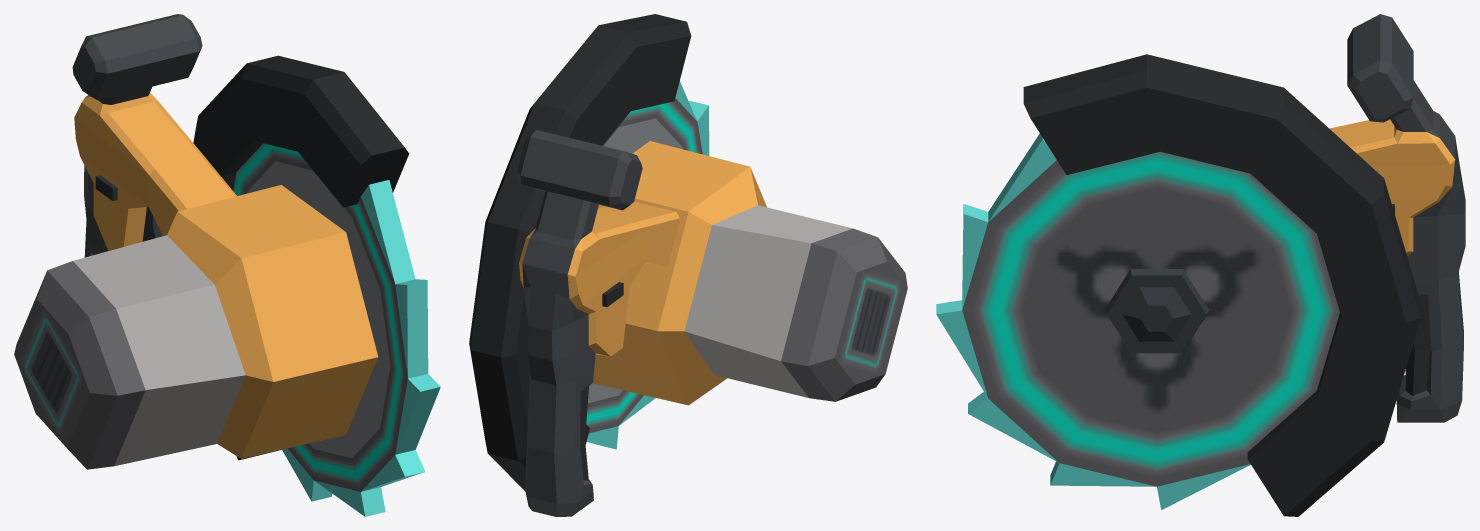
Rendered from SM_Prop_Tool_Circular_Saw_01.fbx.
3 renders of one model, left to right at view 1: azimuth 30°, elevation 25°; view 2: azimuth 150°, elevation 25°; view 3: azimuth 270°, elevation 25°, orthographic. The views are drawn at different scales.
Visible parts, largest first — view 1: SM_Prop_Tool_Circular_Saw_01, SM_Prop_Tool_Circular_Saw_01_Blade; view 2: SM_Prop_Tool_Circular_Saw_01, SM_Prop_Tool_Circular_Saw_01_Blade; view 3: SM_Prop_Tool_Circular_Saw_01_Blade, SM_Prop_Tool_Circular_Saw_01.
Boxes of the visible parts, x1,y1,x2,y2 form: SM_Prop_Tool_Circular_Saw_01: [14, 14, 409, 469]; SM_Prop_Tool_Circular_Saw_01_Blade: [233, 143, 440, 516]; SM_Prop_Tool_Circular_Saw_01: [469, 14, 907, 516]; SM_Prop_Tool_Circular_Saw_01_Blade: [586, 81, 709, 449]; SM_Prop_Tool_Circular_Saw_01_Blade: [936, 133, 1339, 509]; SM_Prop_Tool_Circular_Saw_01: [1023, 14, 1465, 516].
Bounding box in the file's own units: 30.73 × 42.52 × 45.69.
